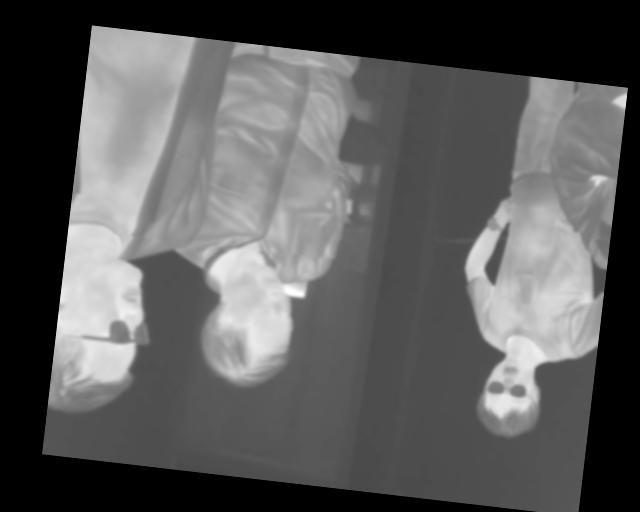face: (47, 254, 154, 421), (193, 259, 301, 391), (473, 350, 546, 442)
